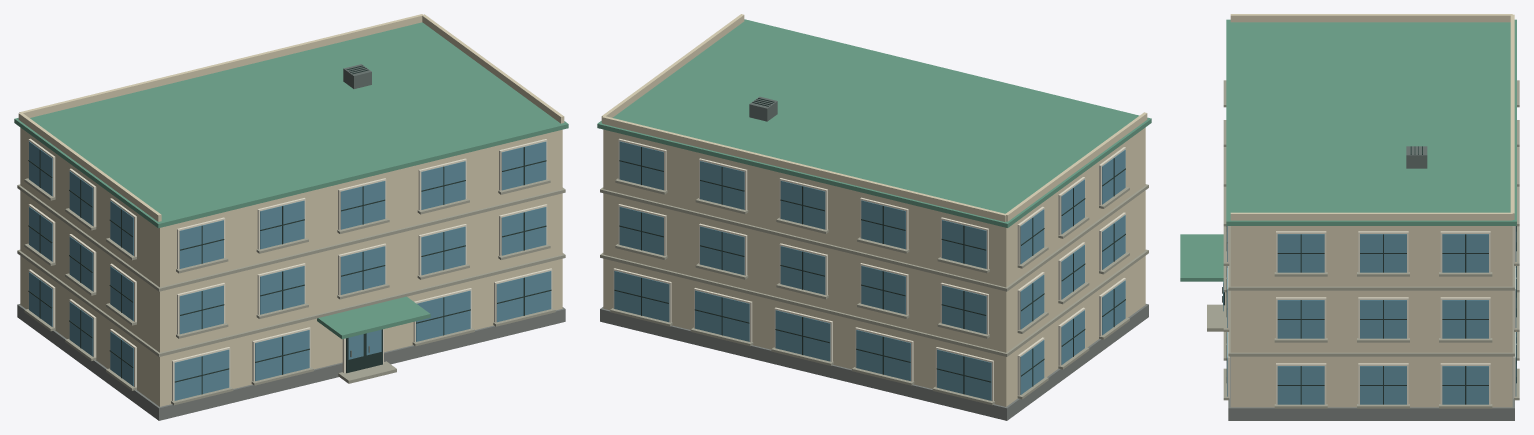
File: OfficeAnnex.obj
3 renders of one model, left to right at view 1: azimuth 30°, elevation 25°; view 2: azimuth 150°, elevation 25°; view 3: azimuth 270°, elevation 25°, orthographic.
Parts seen in each view (by area): view 1: OfficeAnnex; view 2: OfficeAnnex; view 3: OfficeAnnex.
Part boxes in pixels (left/top/right/bottom): OfficeAnnex: left=14, top=14, right=568, bottom=420; OfficeAnnex: left=597, top=14, right=1151, bottom=420; OfficeAnnex: left=1180, top=14, right=1519, bottom=420.
Size of the model in its own units: 20.6 by 10.07 by 14.45.
Materials: 1 (1 with a texture image).
